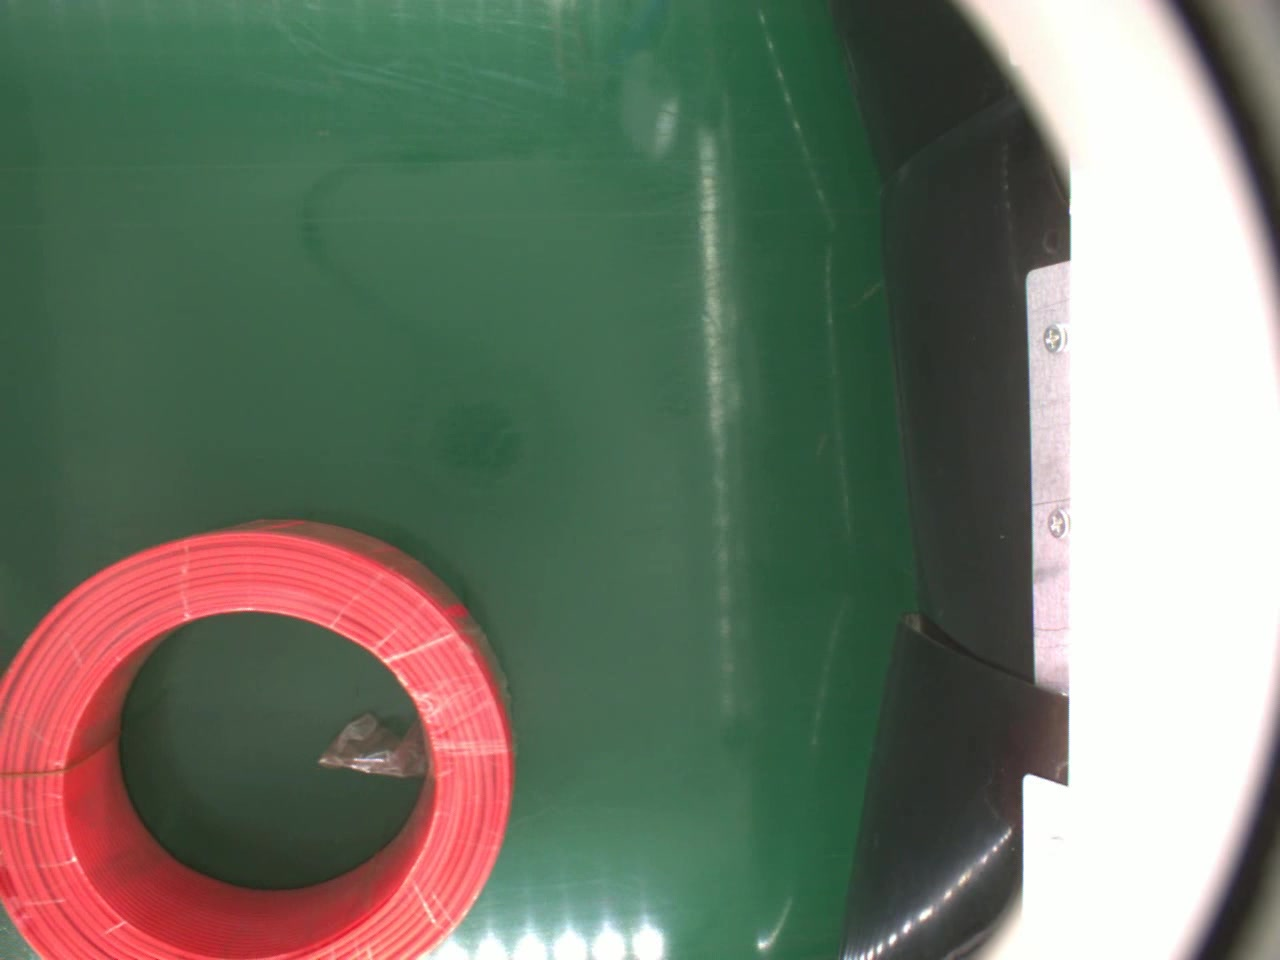red: (0, 517, 516, 960)
